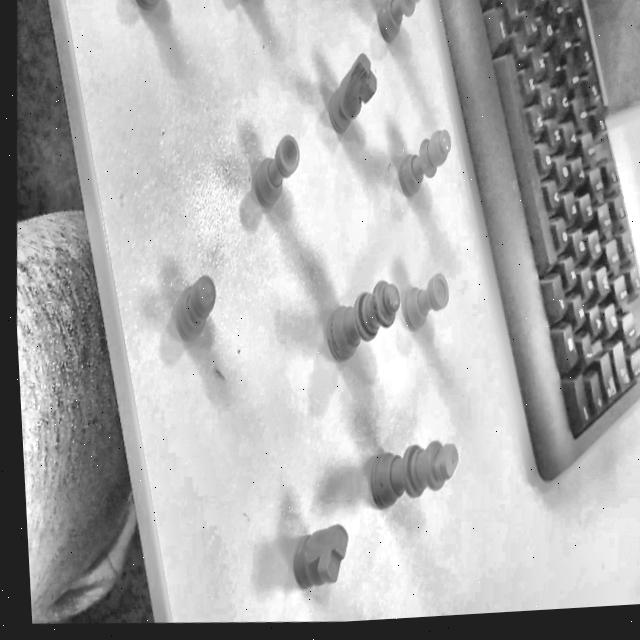white-bishop: (383, 114, 456, 206), (376, 0, 439, 54)
white-king: (359, 399, 481, 538)
white-knight: (320, 35, 387, 140), (282, 514, 354, 611)
white-pawn: (152, 239, 226, 350)
white-queen: (314, 261, 402, 366)
white-rook: (236, 111, 312, 230), (396, 269, 459, 337)
